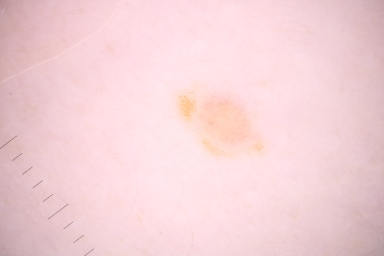nevus: (180, 94, 264, 157)
